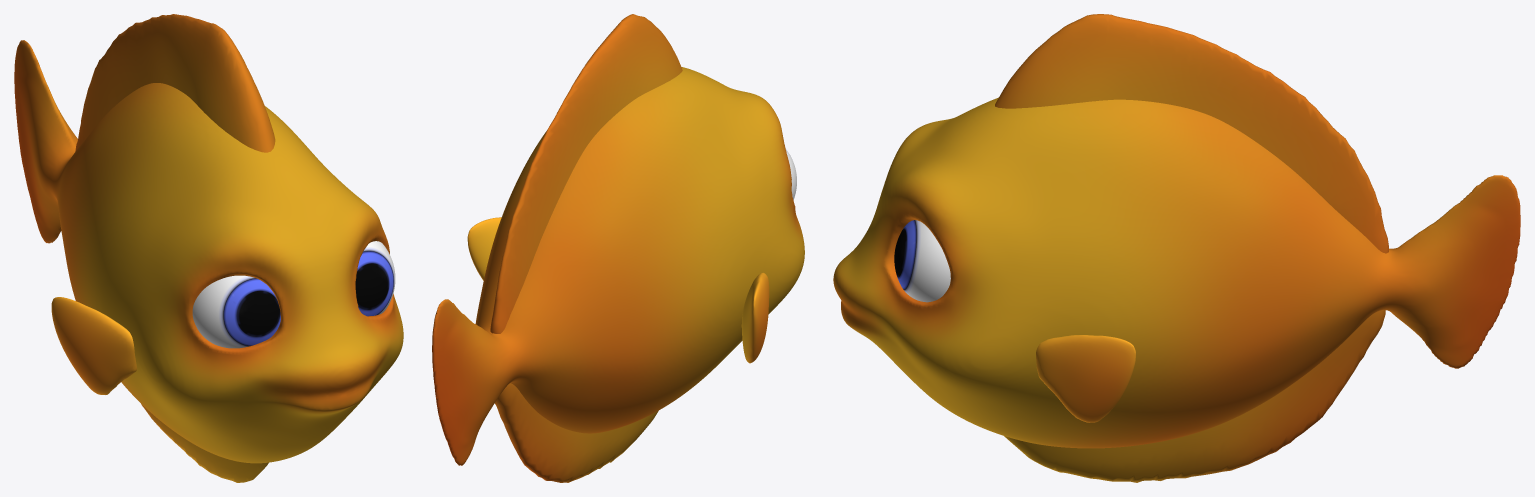
File: Fishes_Little_general_3_Base.glb
The picture shows the model from 3 angles, left to right: view 1: azimuth 30°, elevation 25°; view 2: azimuth 150°, elevation 25°; view 3: azimuth 270°, elevation 25°; orthographic projection. The views are drawn at different scales.
Visible parts, largest first — view 1: Sphere.006, Sphere.003, Little fish 02 Eyes_Base.004, Sphere.001; view 2: Sphere.006, Sphere.003, Sphere.001; view 3: Sphere.006, Sphere.003, Sphere.001, Little fish 02 Eyes_Base.004.
Part boxes in pixels (box(x1,y1,x2,y2)): Sphere.006: box(14, 40, 403, 463); Sphere.003: box(75, 14, 275, 482); Little fish 02 Eyes_Base.004: box(192, 241, 395, 348); Sphere.001: box(51, 297, 137, 394); Sphere.006: box(432, 67, 804, 465); Sphere.003: box(490, 14, 682, 482); Sphere.001: box(467, 217, 769, 363); Sphere.006: box(833, 97, 1520, 448); Sphere.003: box(995, 14, 1388, 482); Sphere.001: box(1036, 335, 1135, 422); Little fish 02 Eyes_Base.004: box(894, 220, 950, 302).
Bounding box in the file's own units: 0.3046 × 0.4362 × 0.5807.
